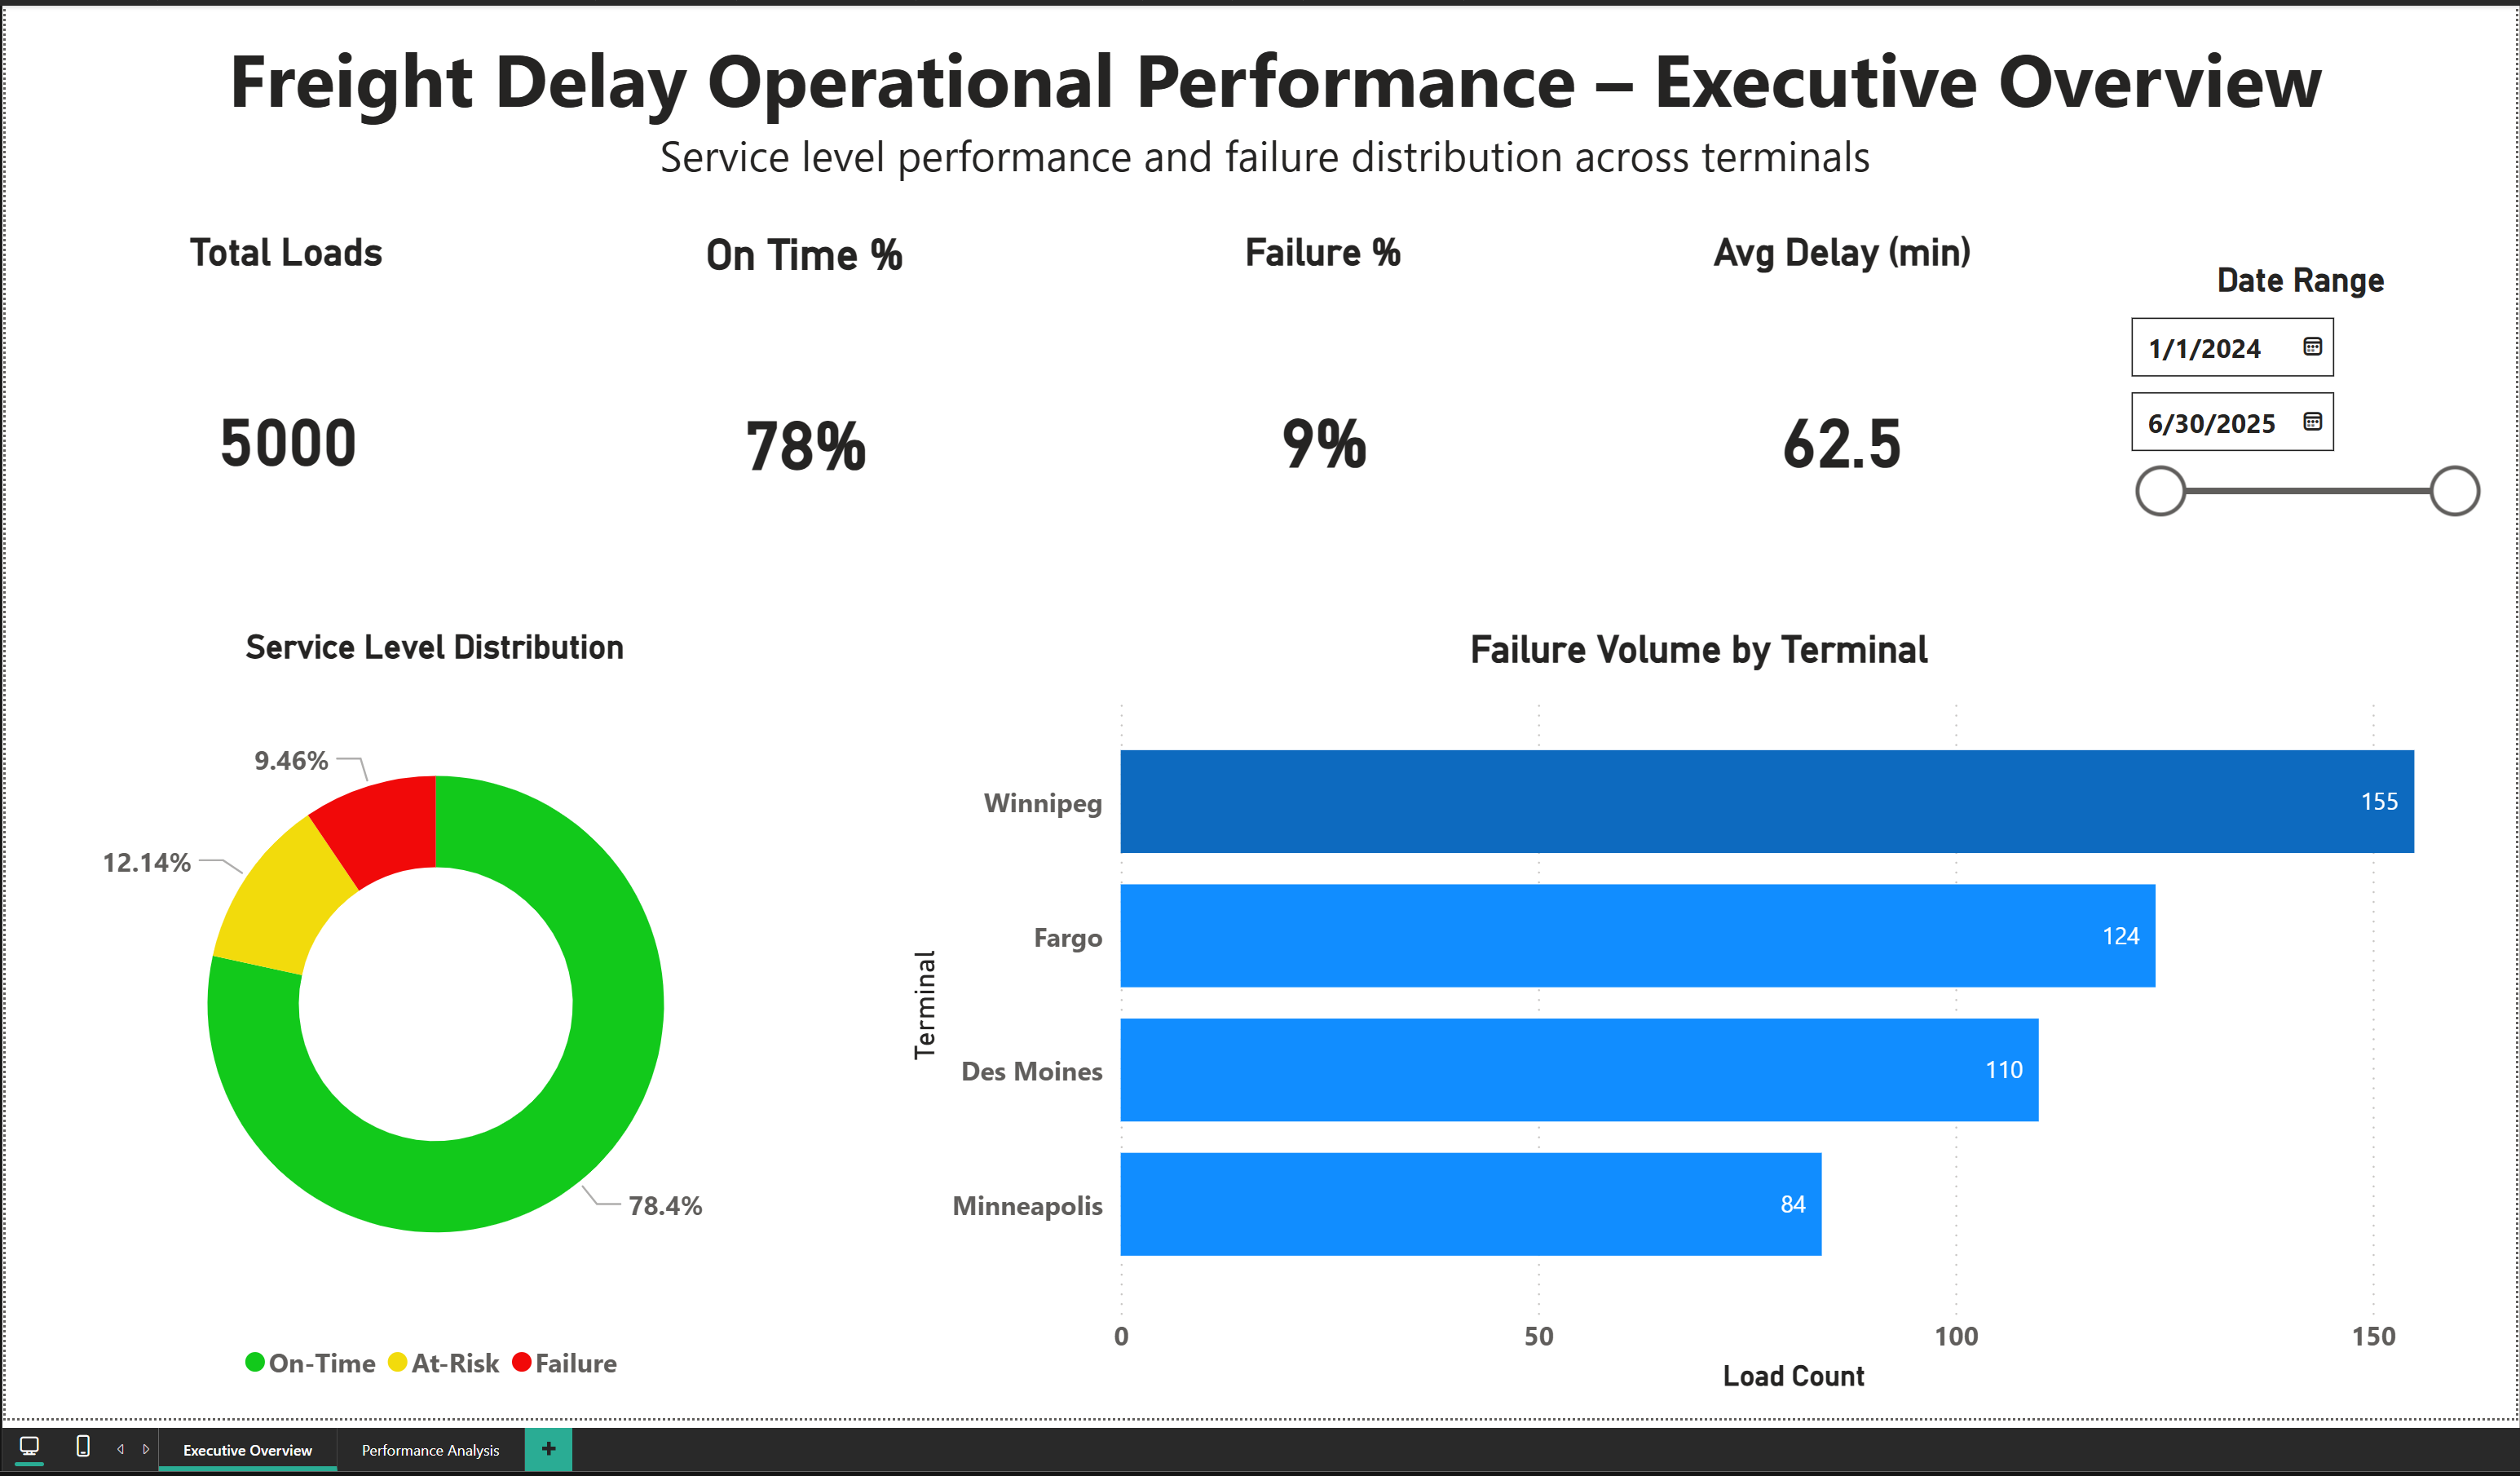

The page's visual inventory and layout, read from the dashboard file:
{"tool":"powerbi","page":{"name":"Executive Overview","canvas":[1280,720],"ordinal":0},"visuals":[{"type":"card","title":"Total Loads","fields":{"Values":["CountNonNull(freight_delay_final.LoadID)"]},"box":[13.1,114.1,260,189.6],"z":0},{"type":"card","title":"On Time %","fields":{"Values":["freight_delay_final.OnTime %"]},"box":[277.5,114.1,260,189.6],"z":1000},{"type":"card","title":"Failure %","fields":{"Values":["freight_delay_final.Failure %"]},"box":[541.9,114.1,260,189.6],"z":2000},{"type":"card","title":"Avg Delay (min)","fields":{"Values":["Avg(freight_delay_final.DelayMinutes)"]},"box":[806.3,114.1,260,189.6],"z":3000},{"type":"donutChart","title":"Service Level Distribution","fields":{"Y":["CountNonNull(freight_delay_final.LoadID)"],"Category":["freight_delay_final.ServiceLevel"]},"box":[13.3,316.6,411.7,393.8],"z":4000},{"type":"clusteredBarChart","title":"Failure Volume by Terminal","fields":{"Category":["freight_delay_final.Terminal"],"Y":["CountNonNull(freight_delay_final.LoadID)"]},"box":[455,316.6,816.8,393.8],"z":5000},{"type":"textbox","box":[13.3,6,1258.5,102.4],"z":6000},{"type":"slicer","title":"Date Range","fields":{"Values":["freight_delay_final.Date"]},"box":[1070.7,129.7,199.5,159],"z":7000}]}

Visuals, with their boxes on the page's 1280x720 design canvas (x1, y1, x2, y2). These are canvas units, not pixel positions in the 2520x1476 screenshot, which may show the page scaled, cropped or inside an application window:
"Total Loads" card: pyautogui.locateOnScreen(13, 114, 273, 304)
"On Time %" card: pyautogui.locateOnScreen(278, 114, 538, 304)
"Failure %" card: pyautogui.locateOnScreen(542, 114, 802, 304)
"Avg Delay (min)" card: pyautogui.locateOnScreen(806, 114, 1066, 304)
"Service Level Distribution" donutChart: pyautogui.locateOnScreen(13, 317, 425, 710)
"Failure Volume by Terminal" clusteredBarChart: pyautogui.locateOnScreen(455, 317, 1272, 710)
textbox: pyautogui.locateOnScreen(13, 6, 1272, 108)
"Date Range" slicer: pyautogui.locateOnScreen(1071, 130, 1270, 289)
